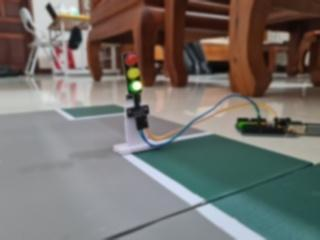green: (109, 40, 157, 103)
